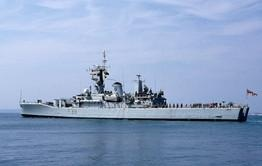warship: (17, 49, 253, 120)
